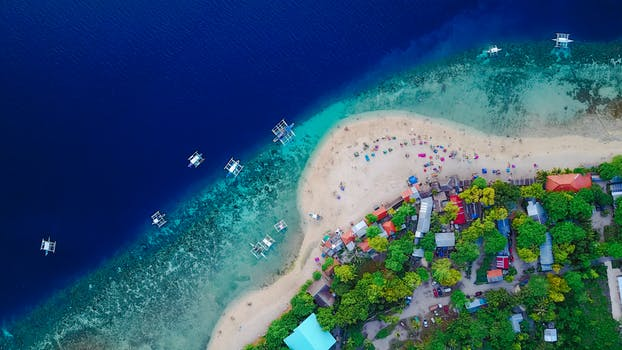ship: (181, 147, 218, 176), (268, 115, 298, 149), (32, 231, 66, 257), (150, 205, 173, 234)
